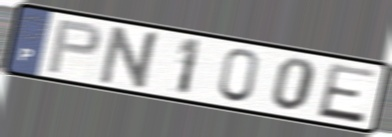0: (268, 56, 317, 113), (218, 47, 262, 105)
1: (175, 36, 203, 99)
E: (314, 61, 379, 126)
N: (95, 24, 165, 92)
P: (44, 18, 103, 76)
